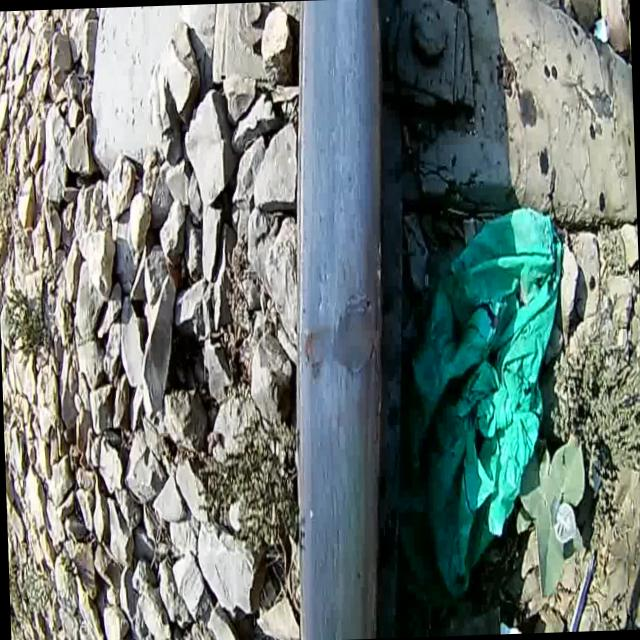Squats: (251, 0, 426, 640)
